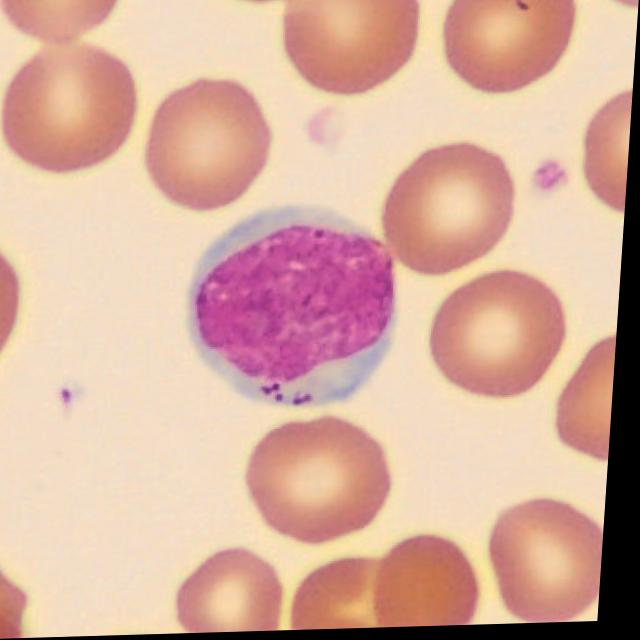Linfocito: (191, 208, 401, 409)
